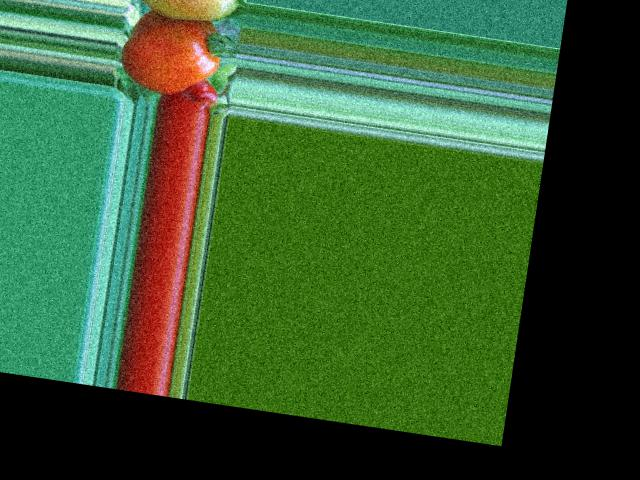tomato: (117, 10, 225, 101)
